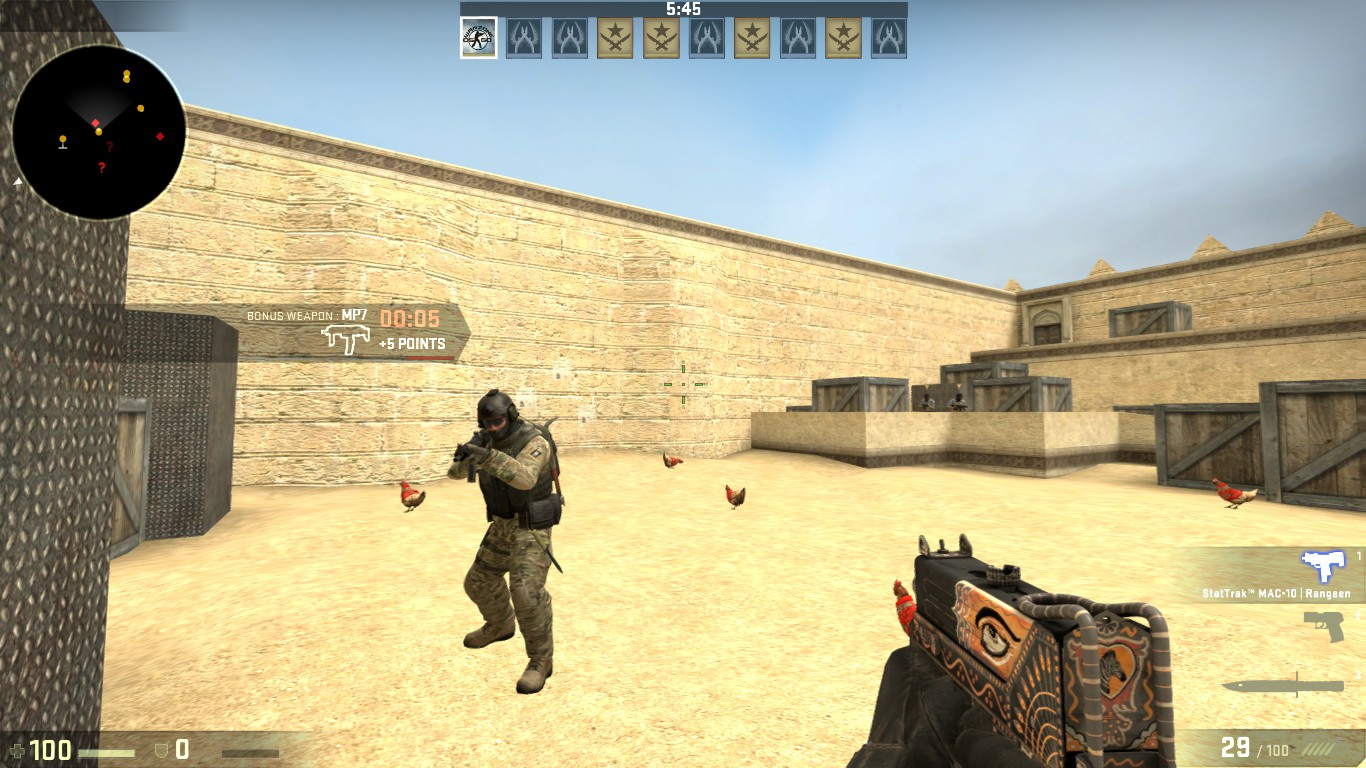c: (445, 384, 566, 688)
ch: (470, 383, 528, 445)
t: (946, 392, 970, 413), (916, 393, 938, 412)
th: (954, 392, 964, 402), (922, 393, 932, 402)
